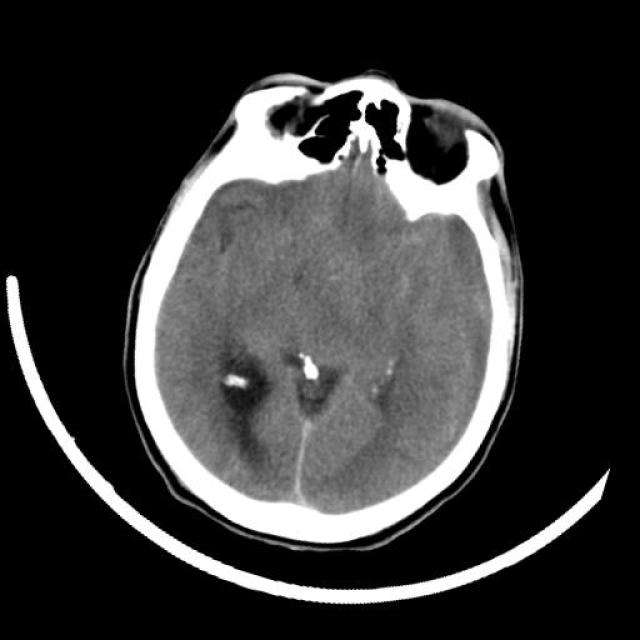Subdural: (238, 394, 364, 520)
